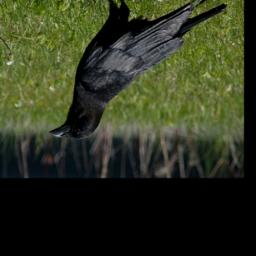Crow: (47, 0, 228, 141)
